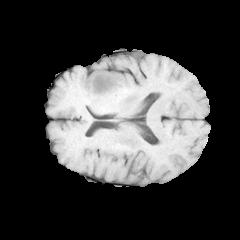glioma: (91, 71, 120, 96)
